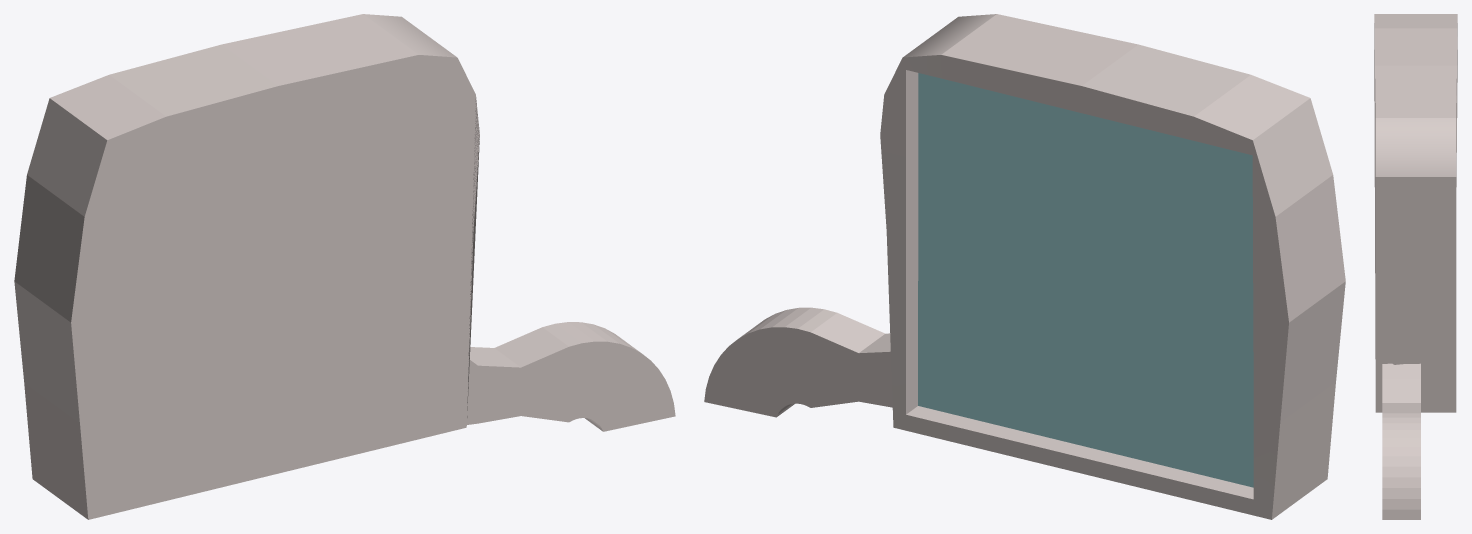
The model's file is sideMirrorSquare.fbx.
3 renders of one model, left to right at view 1: azimuth 30°, elevation 25°; view 2: azimuth 150°, elevation 25°; view 3: azimuth 270°, elevation 25°, orthographic. The views are drawn at different scales.
Parts seen in each view (by area): view 1: SideMirror; view 2: SideMirror; view 3: SideMirror.
Boxes of the visible parts, bbox=[...] form: SideMirror: bbox=[14, 14, 675, 519]; SideMirror: bbox=[704, 14, 1345, 519]; SideMirror: bbox=[1374, 14, 1457, 519].
Size of the model in its own units: 132 by 89.23 by 21.61.
